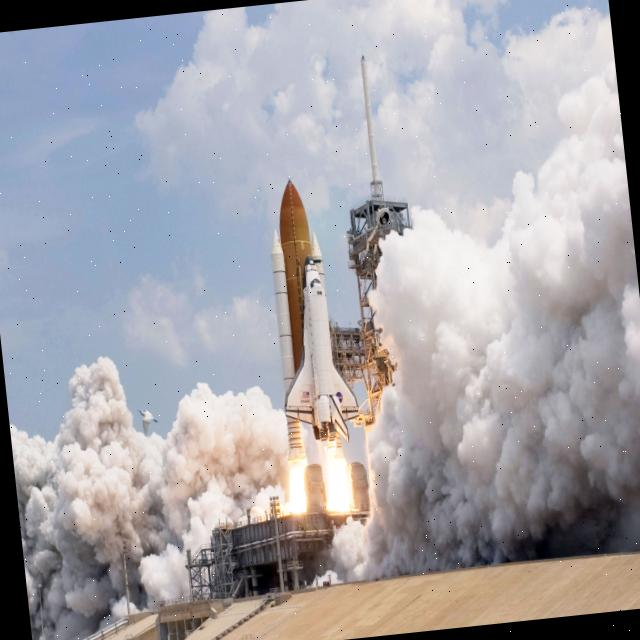rocket: (268, 244, 360, 445)
